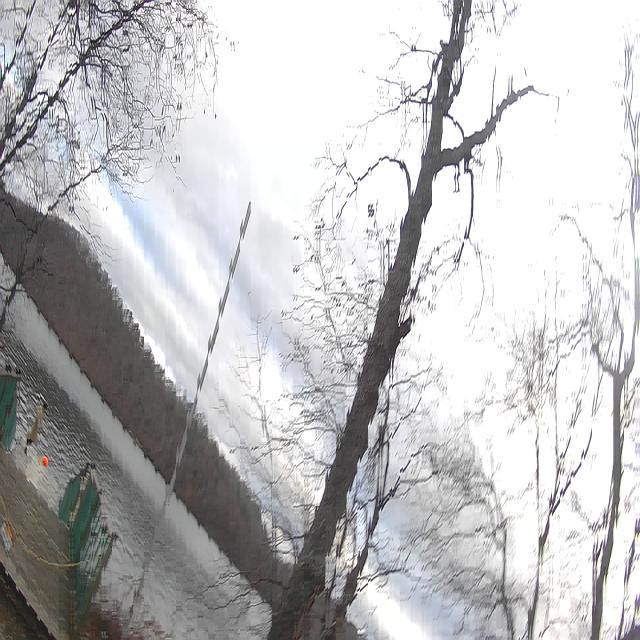Buoy: (41, 454, 49, 470)
